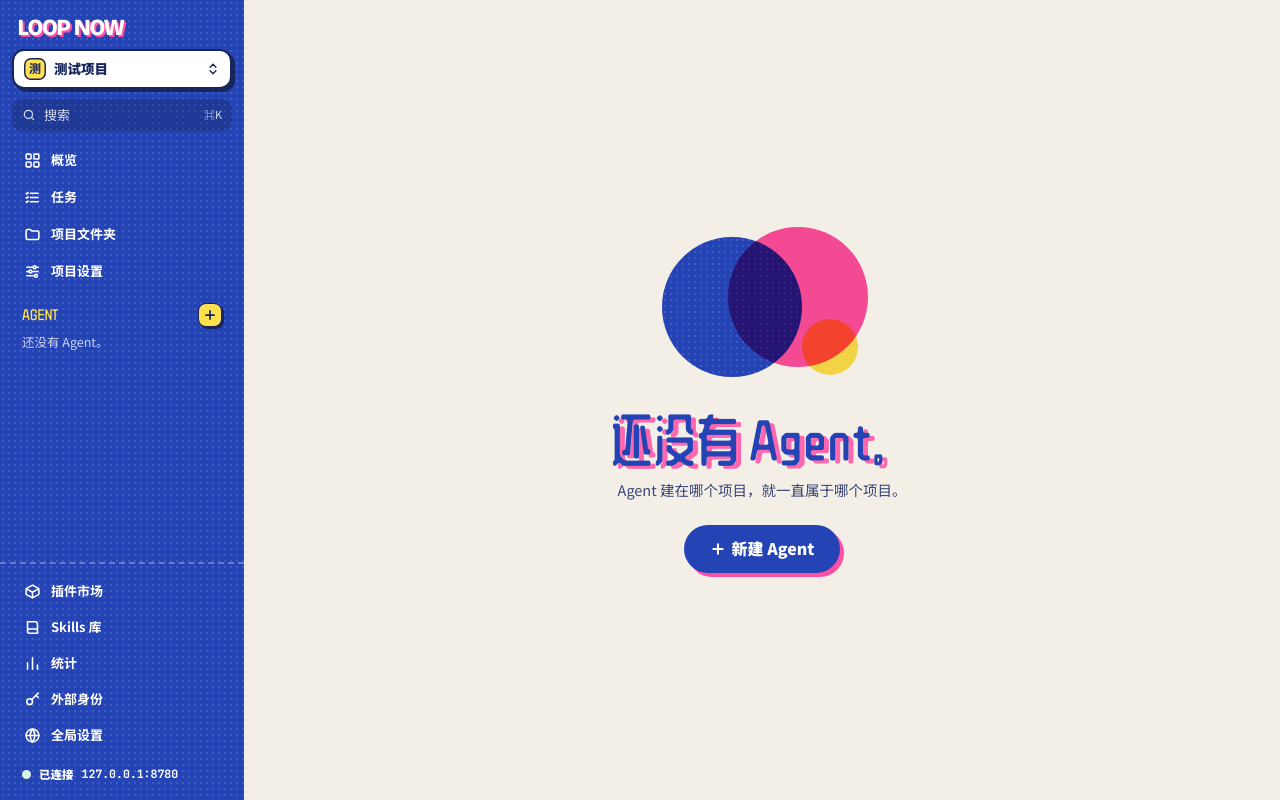
Test: 左侧栏与页面结构 › 没有任何 Agent 时显示空状态；左侧栏的“+”与空状态的按钮都打开新建对话框
Expected: the text "还没有 Agent。" is shown, [22,334,108,350]
Click the button "新建 Agent". click: coordinates (762, 550)
box: [684,526,840,574]
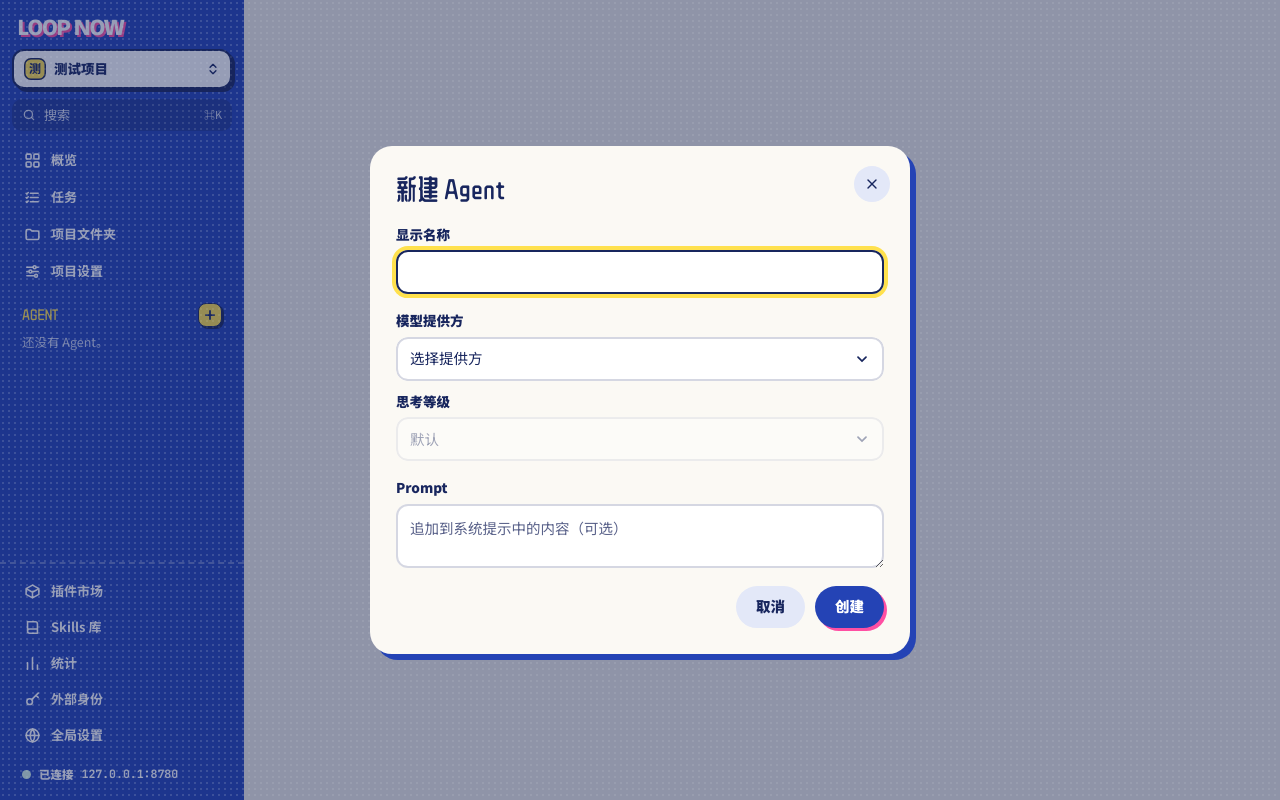
Result: the heading "新建 Agent" is shown at [396,174,505,202]
Press Escape
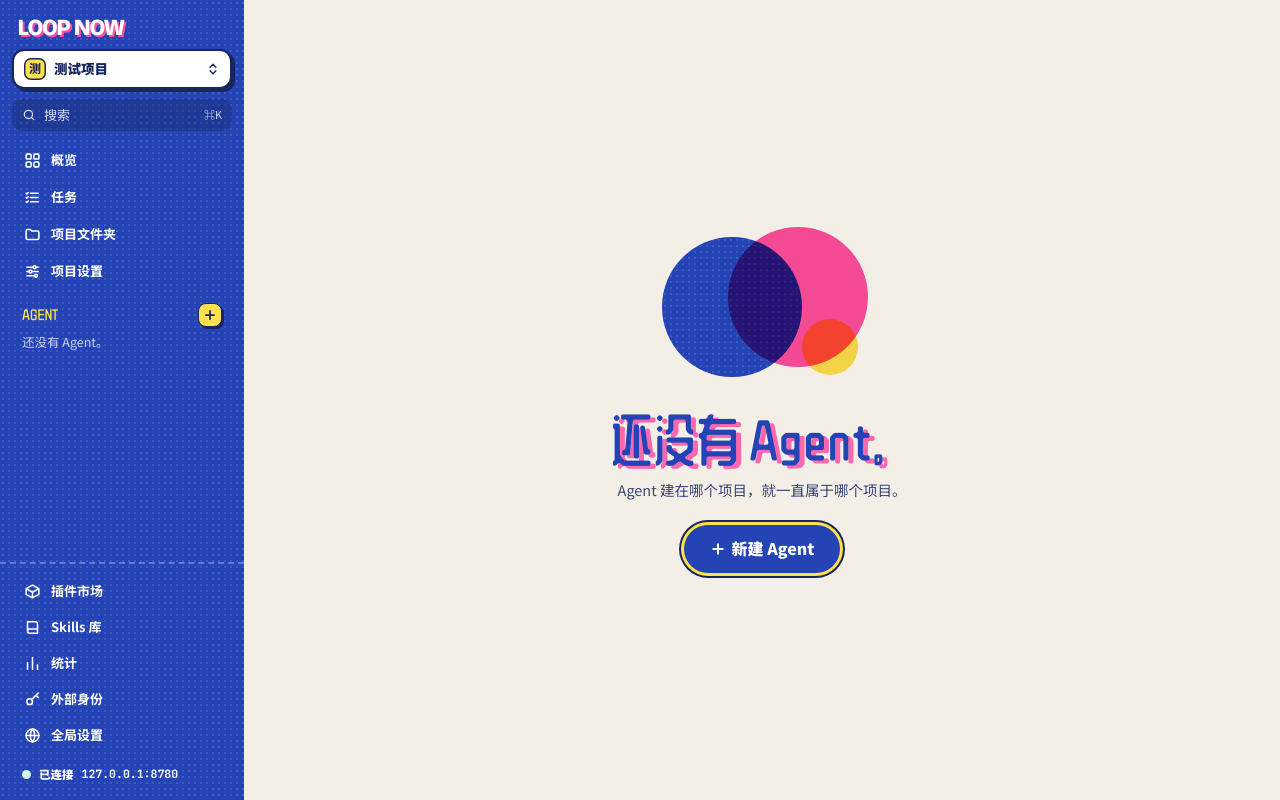
Result: the dialog is gone
Click the button named "新建 Agent". click: coordinates (210, 315)
box: [198,303,222,327]
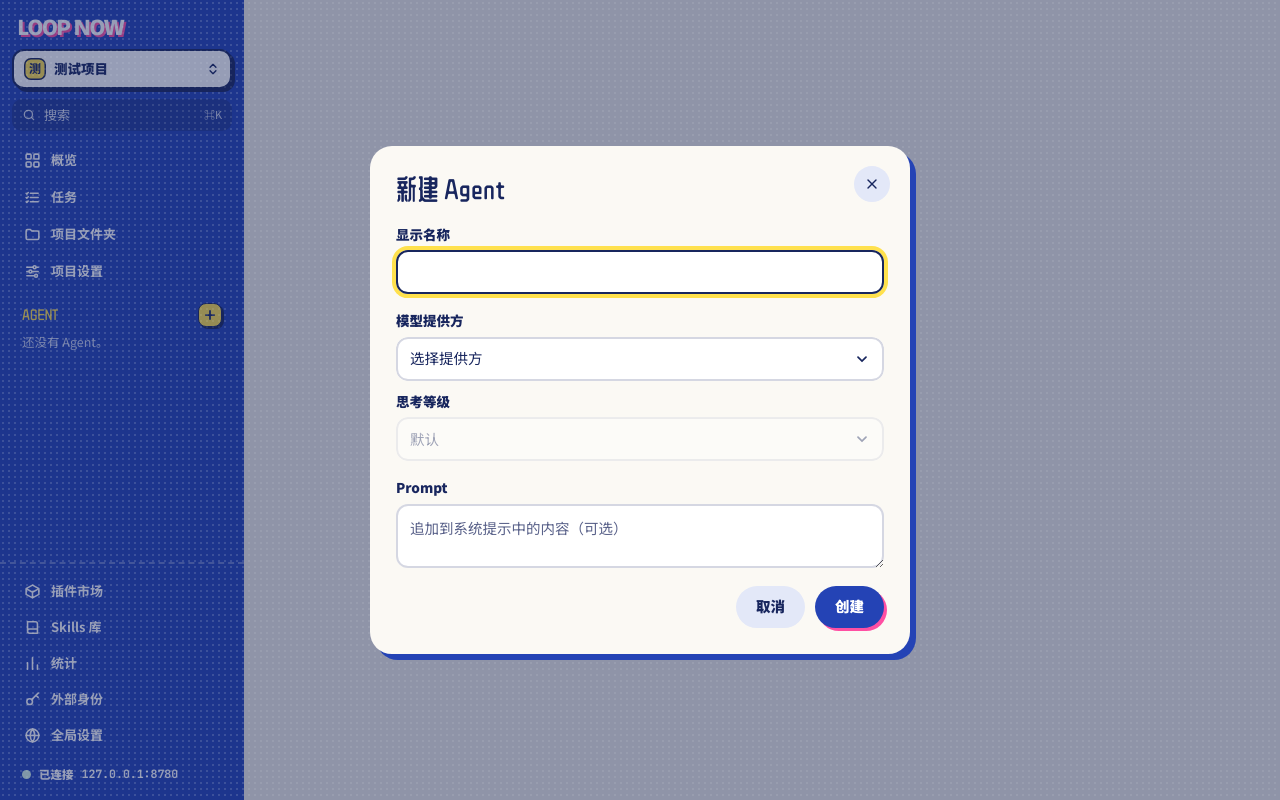
Result: the heading "新建 Agent" is shown at [396,174,505,202]
